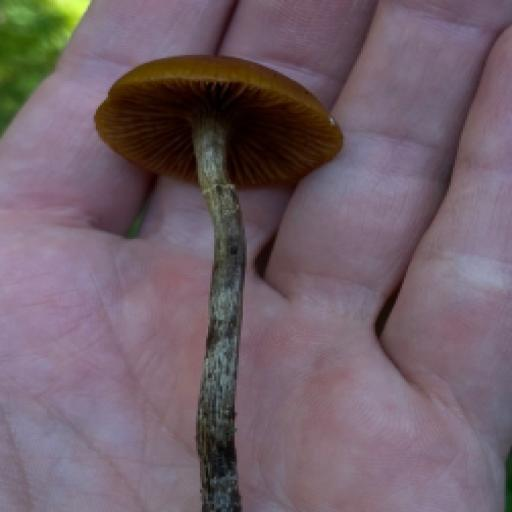mushroom: (87, 36, 355, 364)
